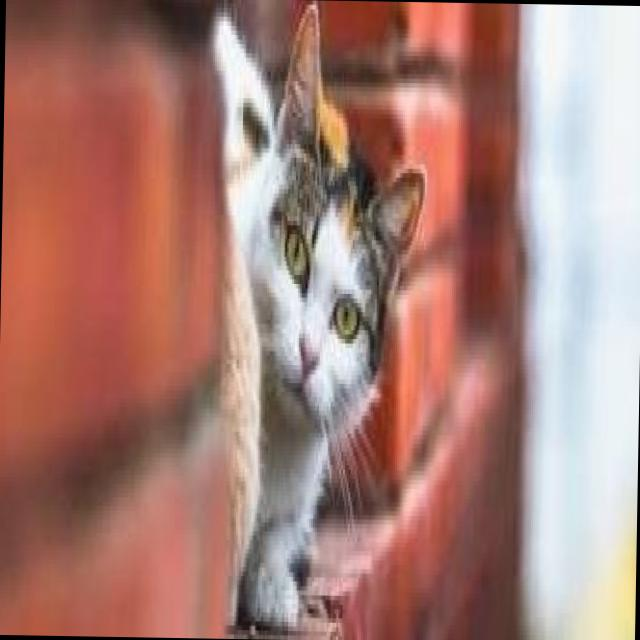Gato: (205, 2, 432, 638)
